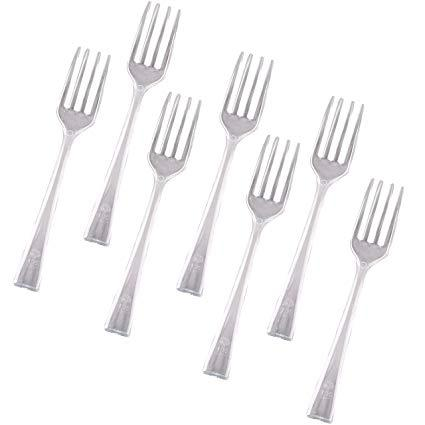Fork: (176, 50, 274, 297), (306, 177, 404, 423), (83, 1, 181, 246), (267, 96, 365, 341), (13, 46, 110, 292), (203, 134, 300, 380), (104, 92, 201, 337)
